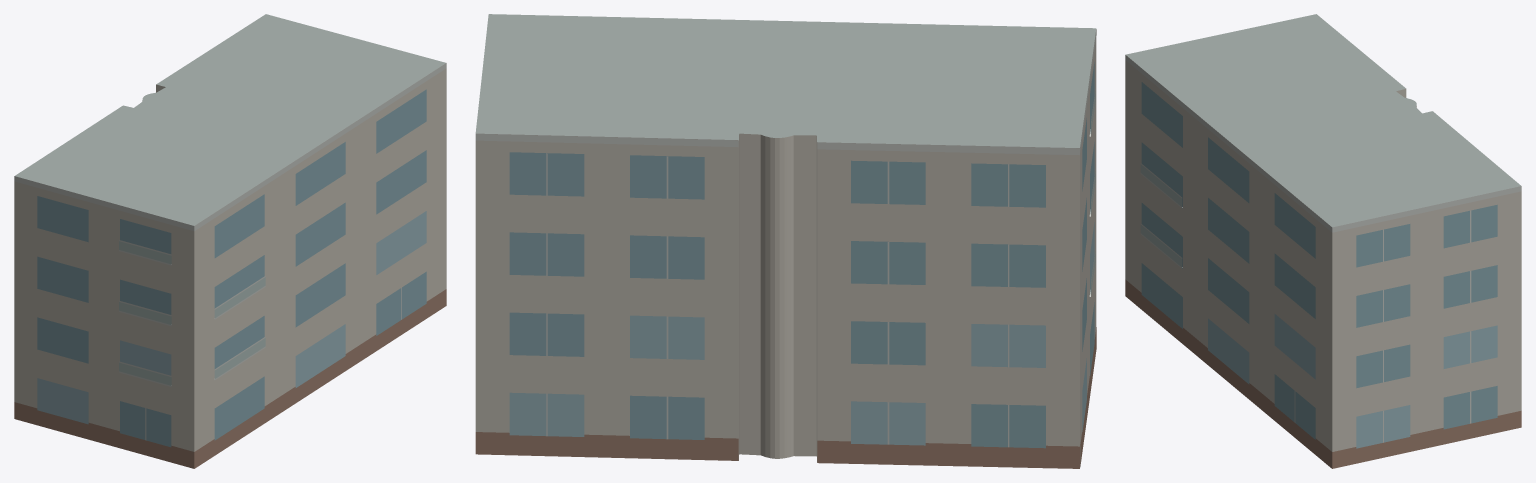
The model's file is survey-upis-32742411.glb.
3 views of the same model, side by side, from view 1: azimuth 30°, elevation 25°; view 2: azimuth 150°, elevation 25°; view 3: azimuth 270°, elevation 25° (orthographic). The views are drawn at different scales.
Visible parts, largest first — view 1: survey-upis-32742411.tmp; view 2: survey-upis-32742411.tmp; view 3: survey-upis-32742411.tmp.
Boxes of the visible parts, x1,y1,x2,y2 form: survey-upis-32742411.tmp: (14, 14, 446, 468); survey-upis-32742411.tmp: (475, 14, 1096, 468); survey-upis-32742411.tmp: (1125, 14, 1521, 468).
Bounding box in the file's own units: 21.05 × 11.1 × 16.52.
